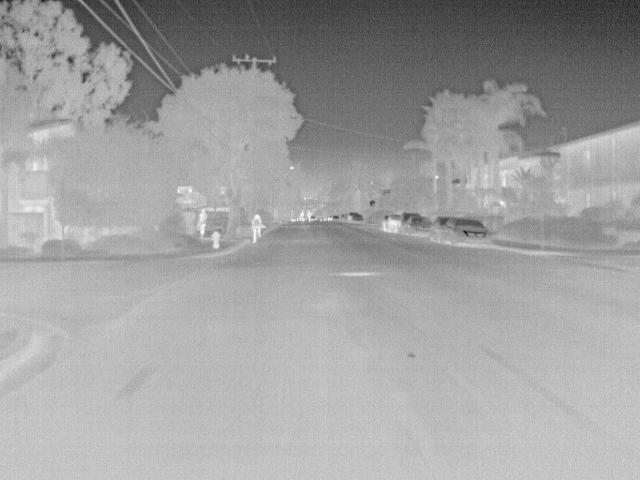car: (443, 218, 493, 250), (402, 216, 431, 235), (431, 217, 448, 242), (385, 214, 402, 232), (351, 214, 365, 224), (331, 214, 341, 222)
person: (195, 207, 209, 237), (250, 213, 262, 245)
